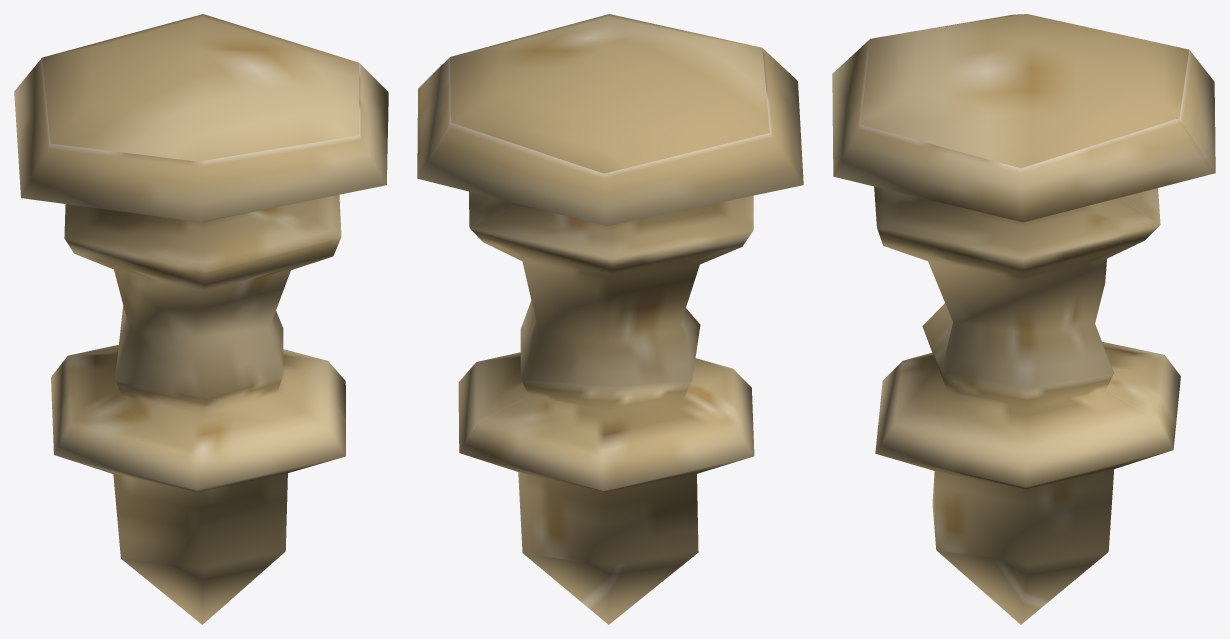
The model's file is Pillar.fbx.
The picture shows the model from 3 angles, left to right: view 1: azimuth 30°, elevation 25°; view 2: azimuth 150°, elevation 25°; view 3: azimuth 270°, elevation 25°; orthographic projection. The views are drawn at different scales.
Visible parts, largest first — view 1: Pillar; view 2: Pillar; view 3: Pillar.
Boxes of the visible parts, bbox=[...] form: Pillar: bbox=[14, 14, 388, 624]; Pillar: bbox=[417, 14, 803, 624]; Pillar: bbox=[832, 14, 1215, 624].
Bounding box in the file's own units: 182 × 266 × 158.
1 material, 1 textured.
